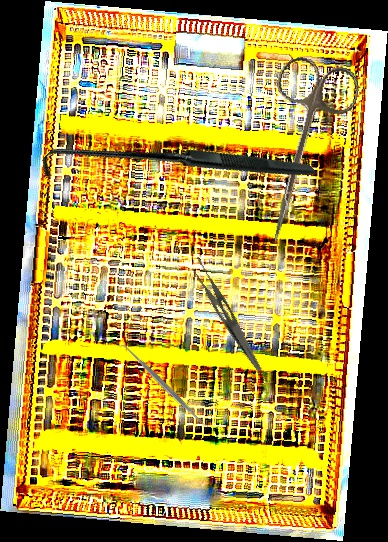Dressing Forceps: (182, 254, 275, 374)
Hook Surgical: (36, 28, 317, 310)
Iris Scissors: (239, 52, 364, 253)
Spatula Surgical: (116, 337, 212, 434)
